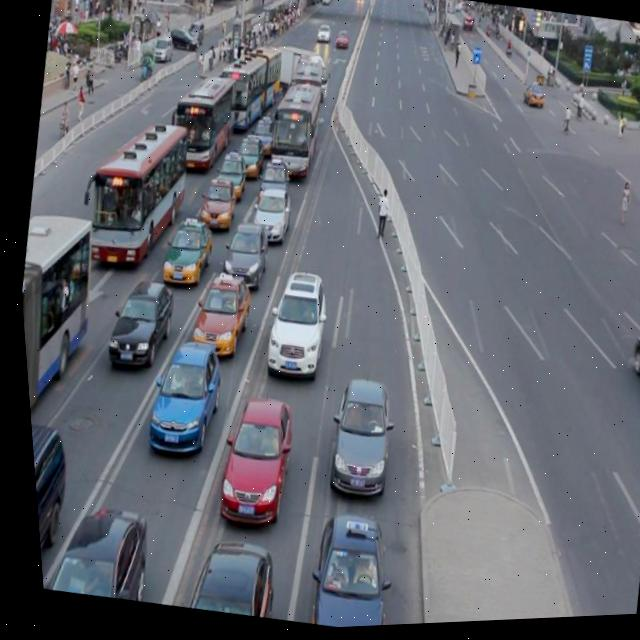bus: (263, 46, 332, 107)
car: (289, 510, 393, 631), (203, 395, 295, 528), (36, 496, 147, 605), (134, 334, 225, 462), (310, 377, 396, 504), (253, 268, 331, 379), (177, 533, 272, 622), (25, 421, 72, 590), (97, 276, 175, 373), (181, 267, 253, 363), (154, 214, 214, 289), (213, 218, 270, 293), (243, 186, 291, 248), (191, 175, 237, 233), (251, 154, 292, 206), (208, 149, 248, 202), (615, 327, 640, 407), (229, 134, 264, 180), (244, 114, 276, 160), (517, 82, 545, 113), (636, 172, 640, 212)
van: (12, 208, 111, 508), (65, 112, 196, 276), (160, 69, 242, 175), (206, 39, 288, 137), (257, 80, 327, 185), (281, 60, 327, 124)
